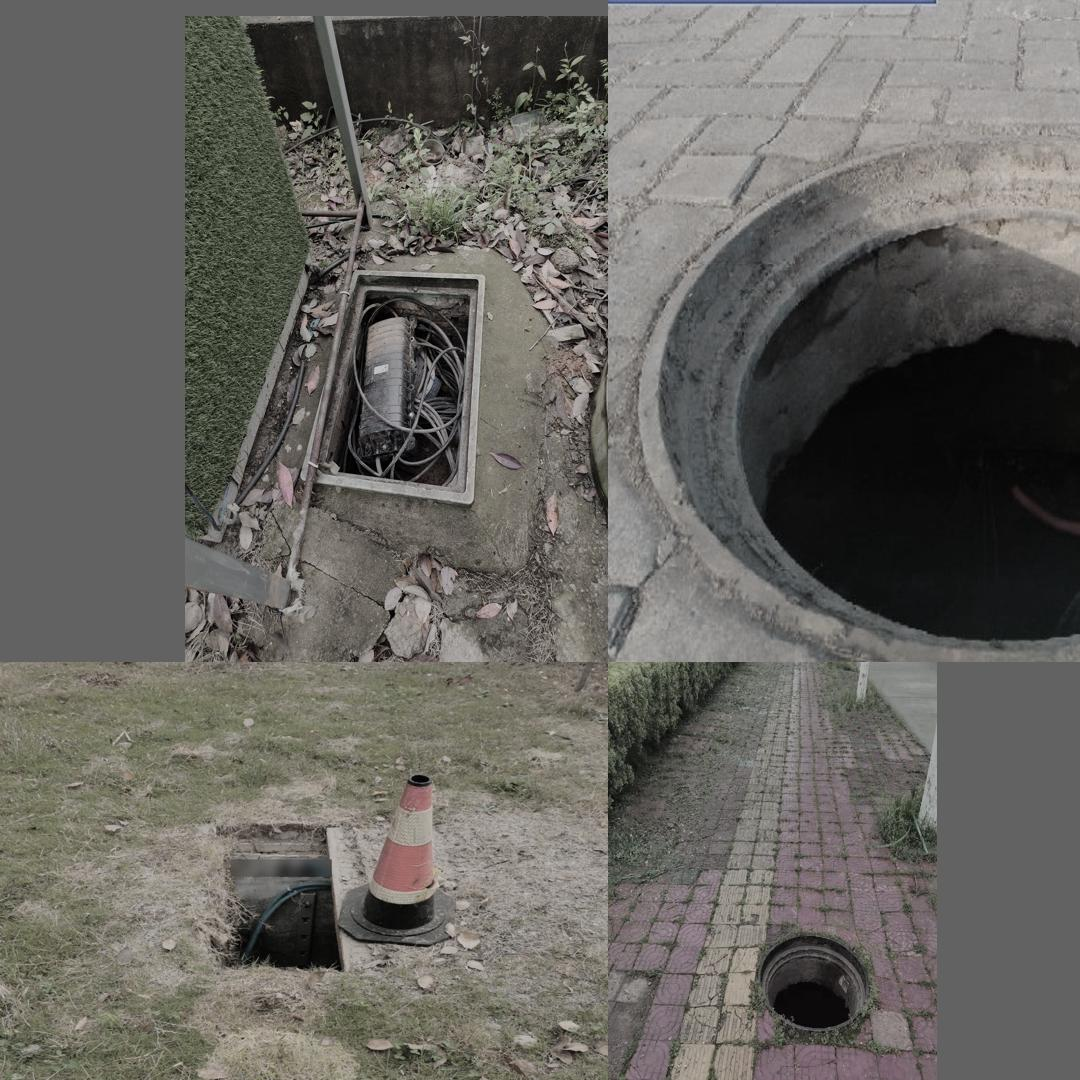lose: (635, 130, 1080, 662), (300, 268, 484, 508), (215, 819, 351, 972), (758, 931, 869, 1033)
